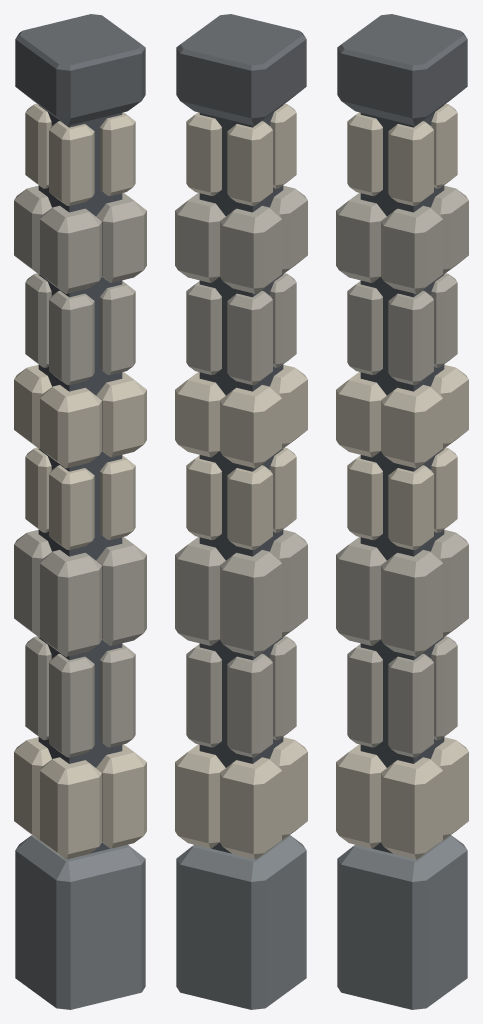
The model's file is SM_LPD_Struct_CornerPostQuoined_01.fbx.
The picture shows the model from 3 angles, left to right: view 1: azimuth 30°, elevation 25°; view 2: azimuth 150°, elevation 25°; view 3: azimuth 330°, elevation 25°; orthographic projection.
Visible parts, largest first — view 1: SM_LPD_Struct_CornerPostQuoined_01; view 2: SM_LPD_Struct_CornerPostQuoined_01; view 3: SM_LPD_Struct_CornerPostQuoined_01.
Boxes of the visible parts, left/top/right/bottom form: SM_LPD_Struct_CornerPostQuoined_01: left=14, top=14, right=146, bottom=1009; SM_LPD_Struct_CornerPostQuoined_01: left=175, top=14, right=307, bottom=1009; SM_LPD_Struct_CornerPostQuoined_01: left=336, top=14, right=468, bottom=1009.
Bounding box in the file's own units: 0.396 × 4 × 0.396.
